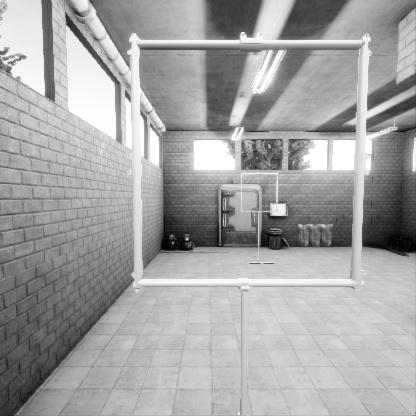gate: (138, 142, 376, 377), (240, 205, 280, 244)
